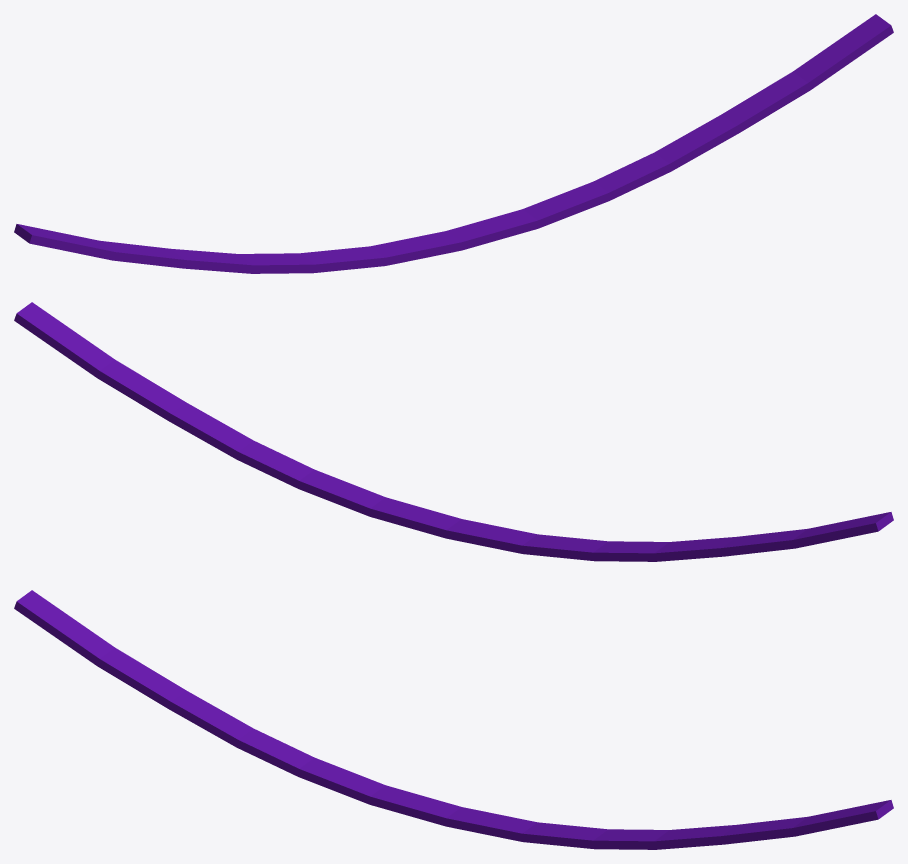
Rendered from Tape_18.fbx.
3 renders of one model, top to bottom at view 1: azimuth 30°, elevation 25°; view 2: azimuth 150°, elevation 25°; view 3: azimuth 330°, elevation 25°, orthographic.
Parts seen in each view (by area): view 1: Tape_18; view 2: Tape_18; view 3: Tape_18.
Boxes of the visible parts, box(x1,y1,x2,y2) form: Tape_18: box(14, 14, 893, 273); Tape_18: box(14, 302, 893, 561); Tape_18: box(14, 590, 893, 849).
Size of the model in its own units: 776 by 103 by 24.08.
